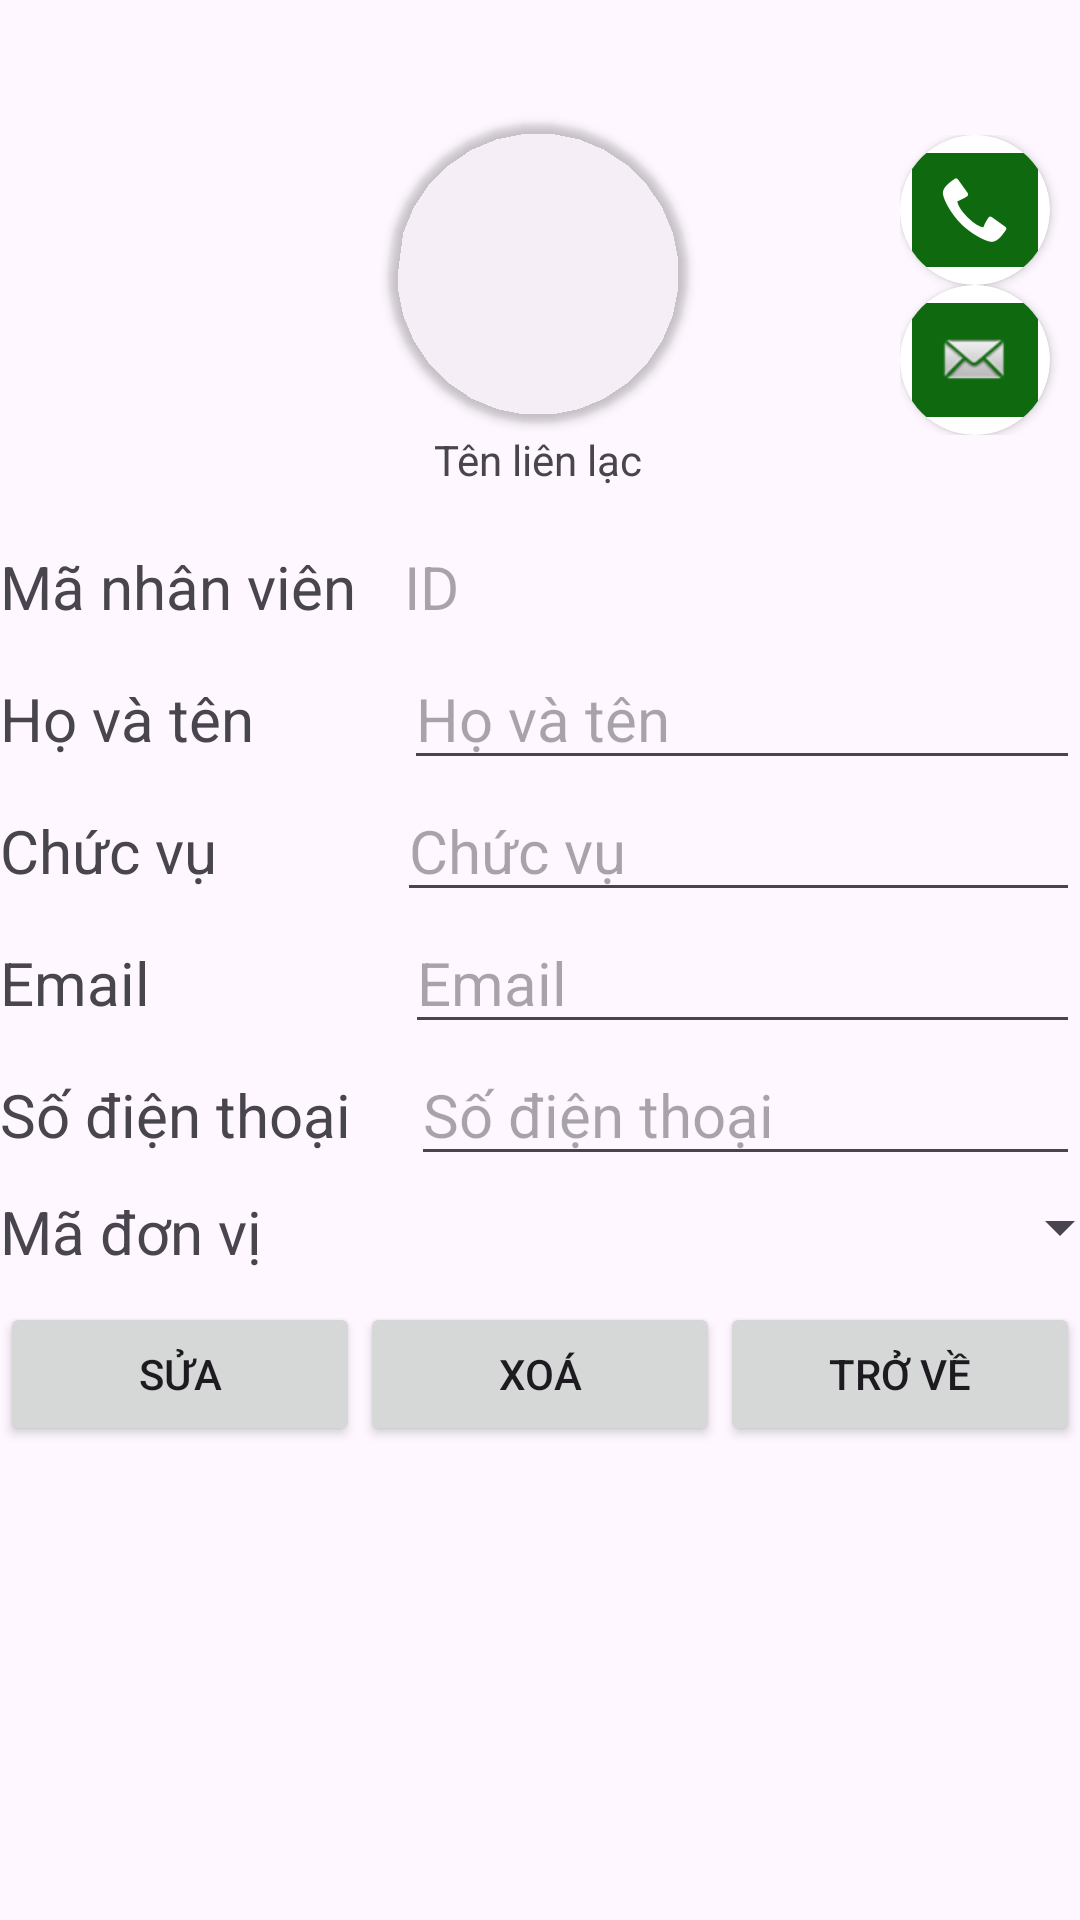

Icon bounding boxes for this 1080px×1920px phone screenshot, format (x1, y1, x2, y2):
phone call: (912, 143, 1050, 285)
sym action email: (912, 285, 1050, 435)
